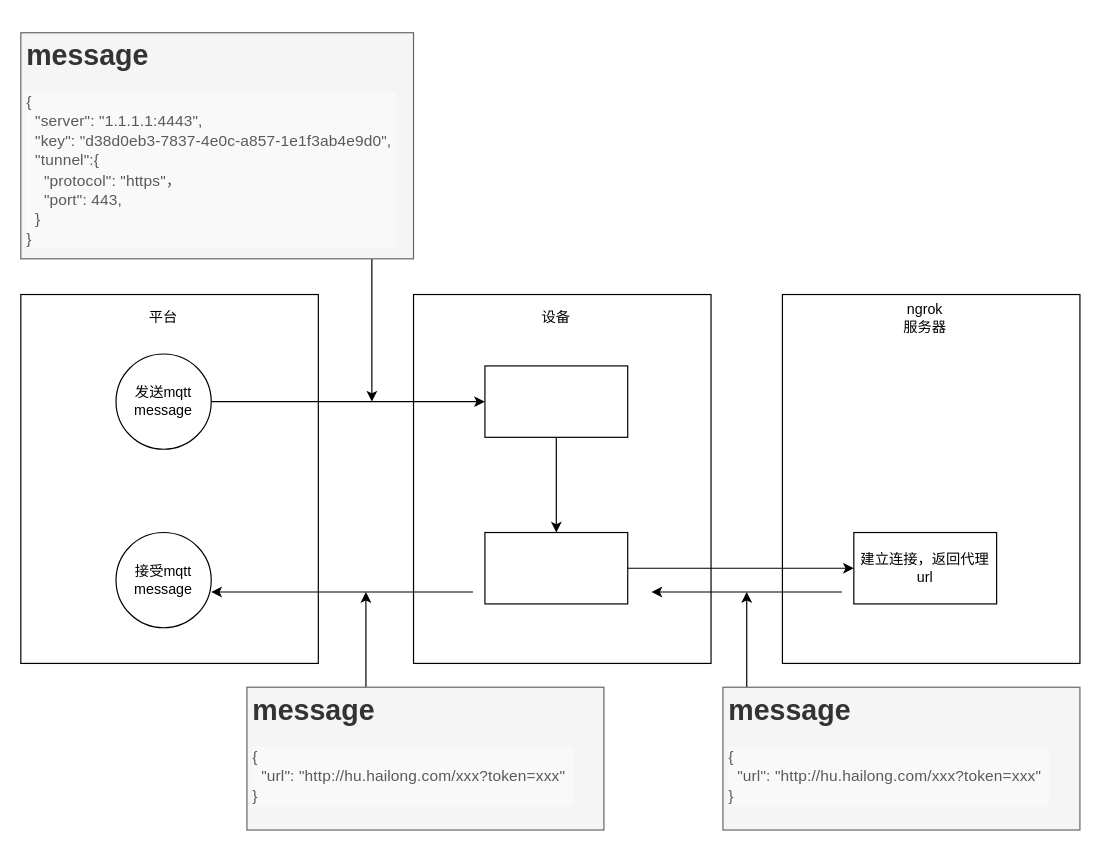
This 1101x851 diagram has some shape labels left out. Here are the shapes that lost their labels. From the top down, the box of each, then its label:
(484, 365, 628, 437): 根据message修改ngrok.yml配置文件
(484, 531, 628, 604): 启动ngrok客户端连接ngrok服务器
